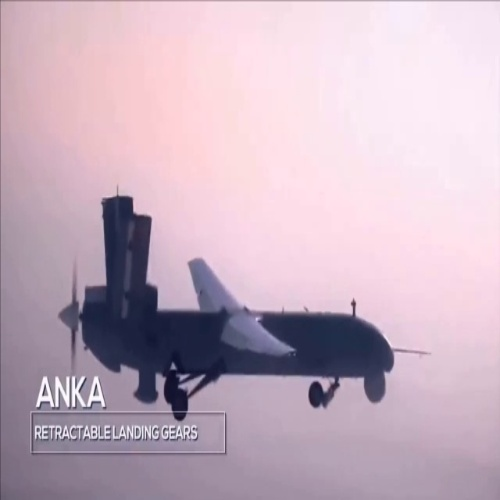uav775: (44, 187, 436, 421)
